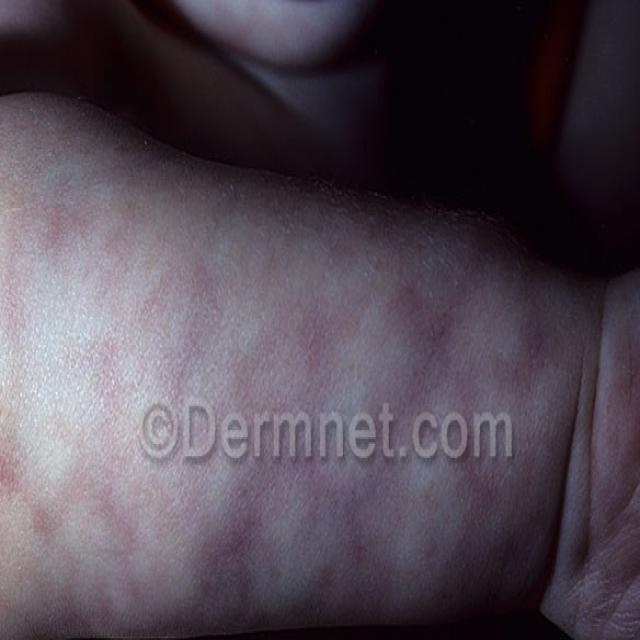Vascular Tumors: (0, 114, 640, 640)
